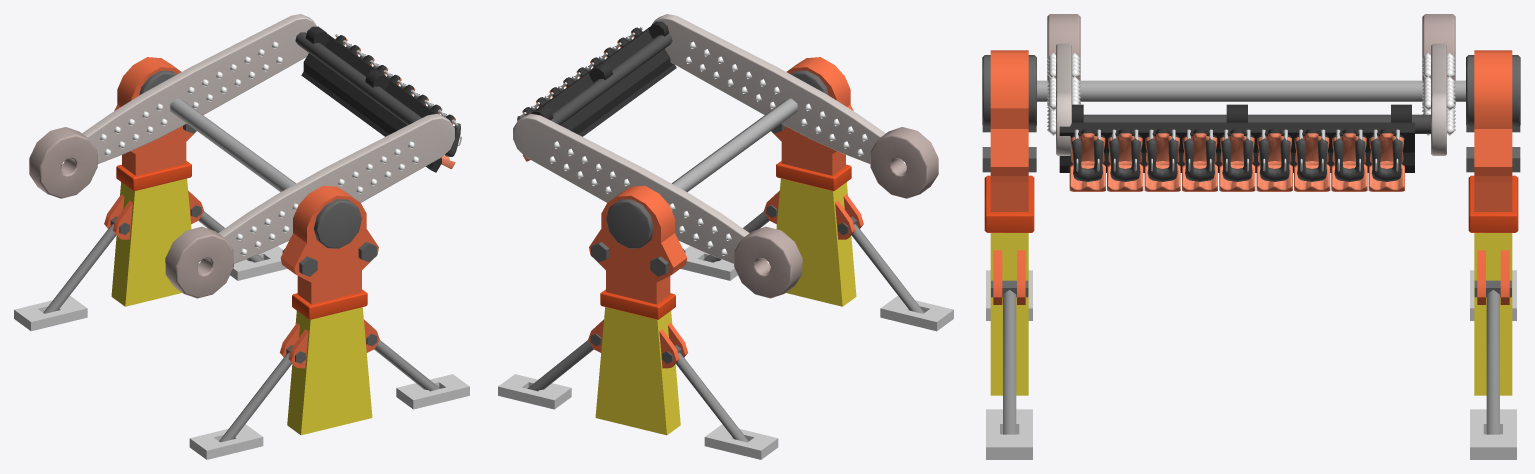
Rendered from attraction_1_001.gltf.
3 views of the same model, side by side, from view 1: azimuth 30°, elevation 25°; view 2: azimuth 150°, elevation 25°; view 3: azimuth 270°, elevation 25° (orthographic). The views are drawn at different scales.
Visible parts, largest first — view 1: attraction_1_001, attraction_1_002, attraction_1_003; view 2: attraction_1_001, attraction_1_002, attraction_1_003; view 3: attraction_1_001, attraction_1_003, attraction_1_002.
Part boxes in pixels (x1,y1,x2,y2): attraction_1_001: (14,57,469,459); attraction_1_002: (29,14,454,298); attraction_1_003: (295,26,461,172); attraction_1_001: (498,57,953,459); attraction_1_002: (513,14,938,298); attraction_1_003: (517,21,676,161); attraction_1_001: (982,50,1520,459); attraction_1_003: (1059,104,1430,191); attraction_1_002: (1047,14,1455,155).
Size of the model in its own units: 11.36 by 9.56 by 12.98.
Materials: 2 (1 with a texture image).
